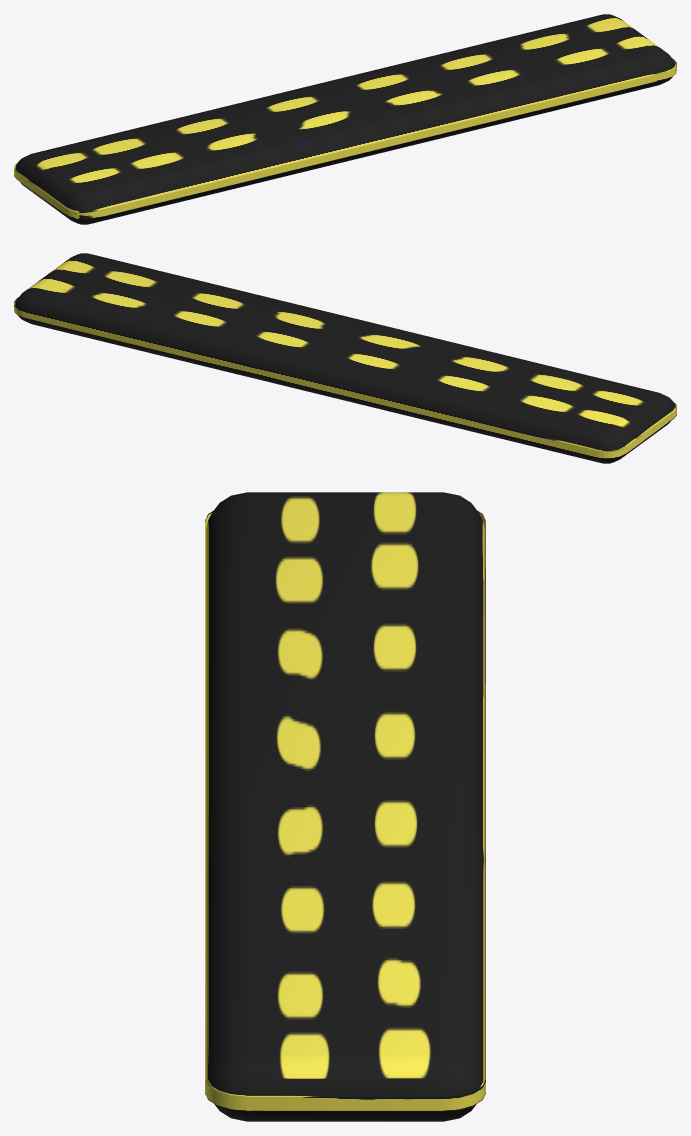
The model's file is Braker_blender.fbx.
3 views of the same model, one above another, from view 1: azimuth 30°, elevation 25°; view 2: azimuth 150°, elevation 25°; view 3: azimuth 270°, elevation 25° (orthographic). The views are drawn at different scales.
Parts seen in each view (by area): view 1: Braker; view 2: Braker; view 3: Braker.
Boxes of the visible parts, left/top/right/bottom form: Braker: left=14, top=14, right=676, bottom=224; Braker: left=14, top=253, right=676, bottom=463; Braker: left=205, top=492, right=485, bottom=1121.
Bounding box in the file's own units: 600 × 30 × 120.
1 material, 1 textured.
